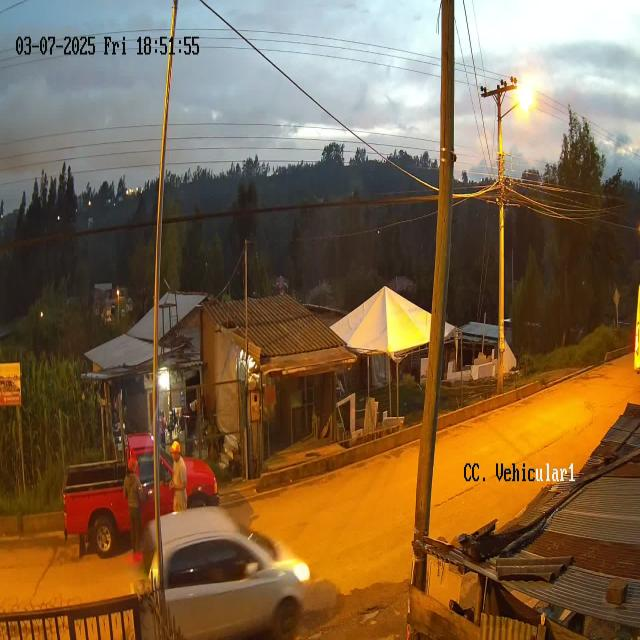SED: (140, 504, 311, 640)
